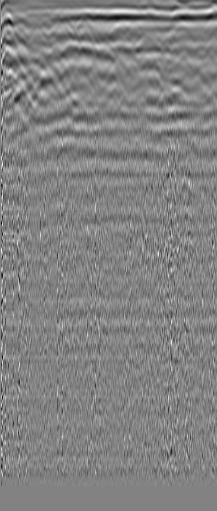오수: (28, 8, 59, 43)
우수: (161, 17, 198, 51)
